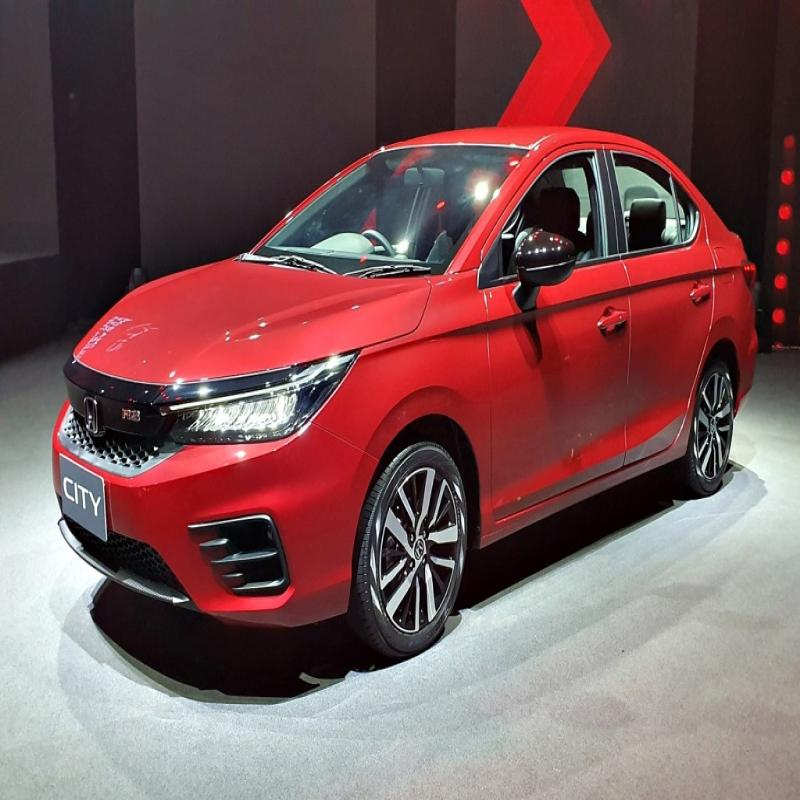car: (61, 92, 756, 658)
